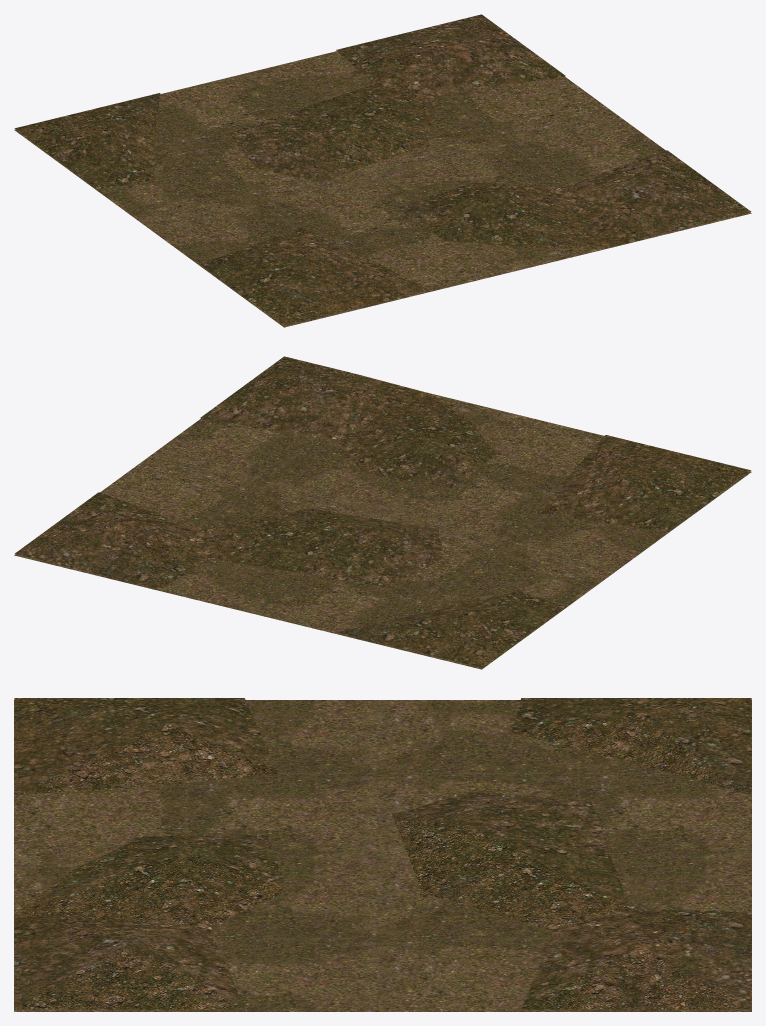
File: Garden_01_Art.fbx
3 renders of one model, top to bottom at view 1: azimuth 30°, elevation 25°; view 2: azimuth 150°, elevation 25°; view 3: azimuth 270°, elevation 25°, orthographic. The views are drawn at different scales.
Parts seen in each view (by area): view 1: Garden_01_Art; view 2: Garden_01_Art; view 3: Garden_01_Art.
Boxes of the visible parts, x1=… form: Garden_01_Art: x1=14, y1=14, x2=751, y2=327; Garden_01_Art: x1=14, y1=356, x2=751, y2=669; Garden_01_Art: x1=14, y1=698, x2=751, y2=1011.
Size of the model in its own units: 1598 by 50.07 by 1598.
